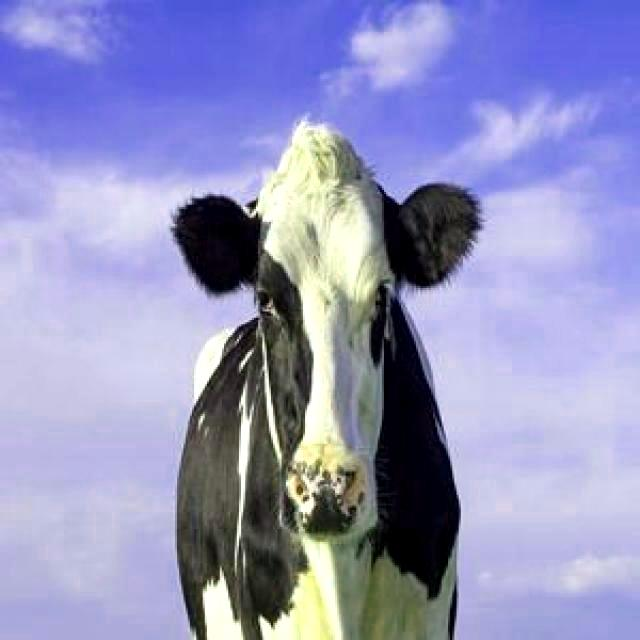COW: (175, 122, 479, 639)
